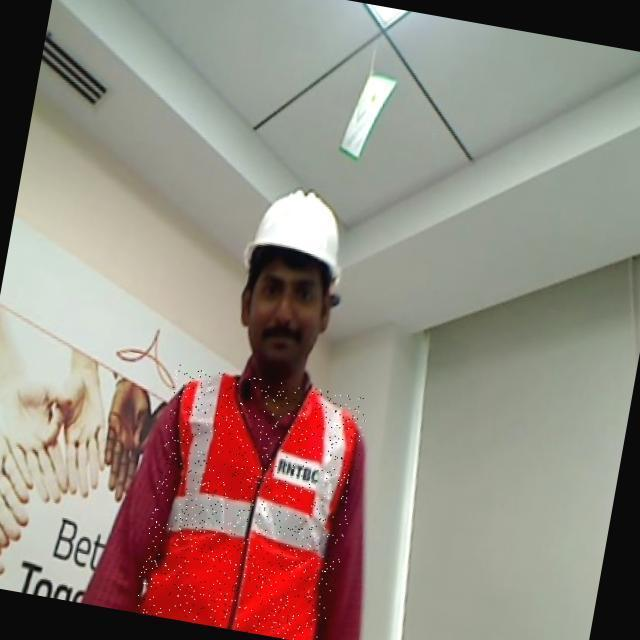helmet: (237, 177, 351, 297)
vest: (132, 364, 369, 640)
